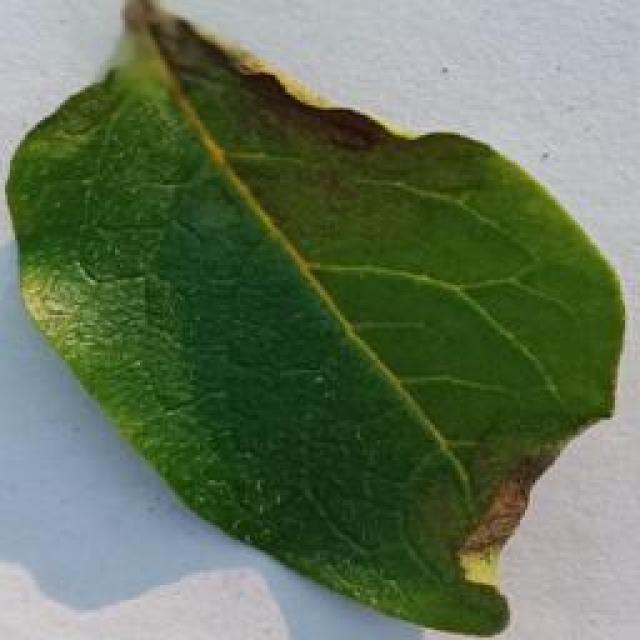Potato_Late_Blight: (9, 6, 614, 633)
